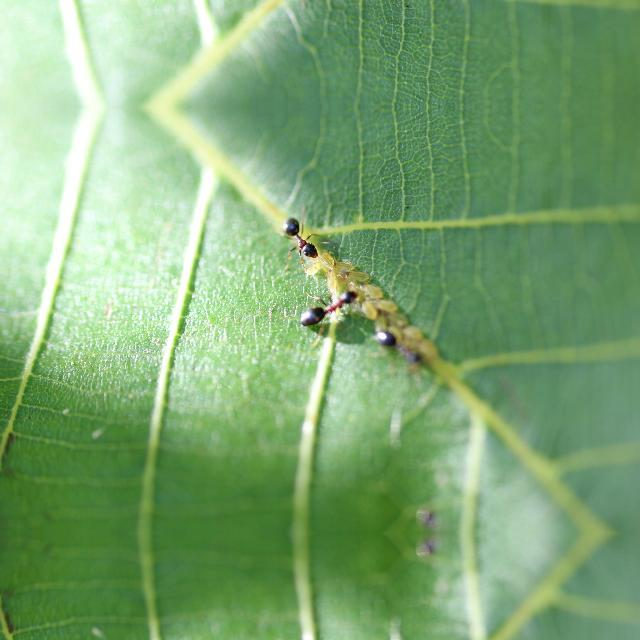Dolichoderus: (286, 280, 374, 332), (271, 210, 333, 264), (379, 322, 428, 368)
